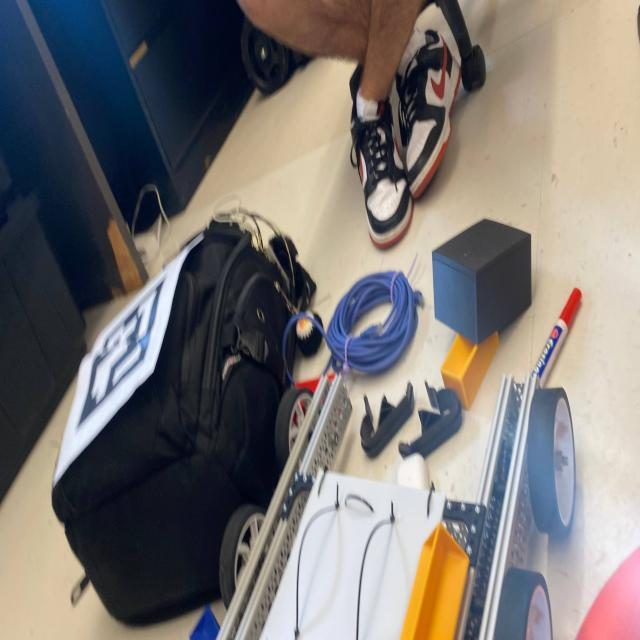blue-specimen: (189, 604, 220, 640)
red-specimen: (294, 377, 320, 393), (326, 371, 335, 383), (313, 377, 319, 389)
yellow-specimen: (400, 523, 470, 640), (441, 331, 499, 409)
